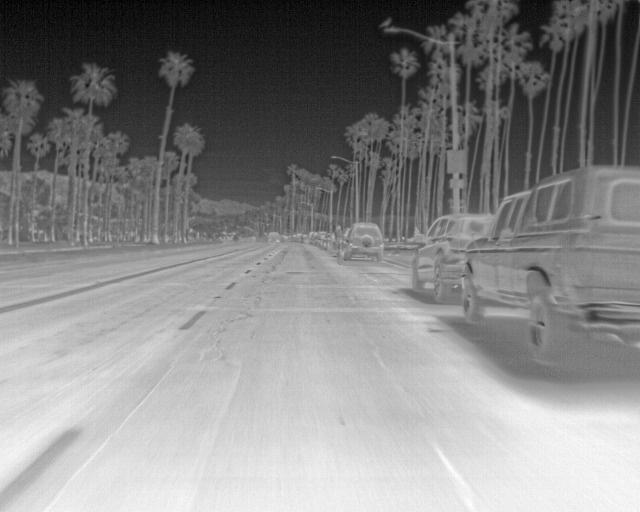bicycle: (457, 164, 637, 362), (409, 212, 495, 303), (344, 222, 386, 264), (267, 229, 283, 245)
